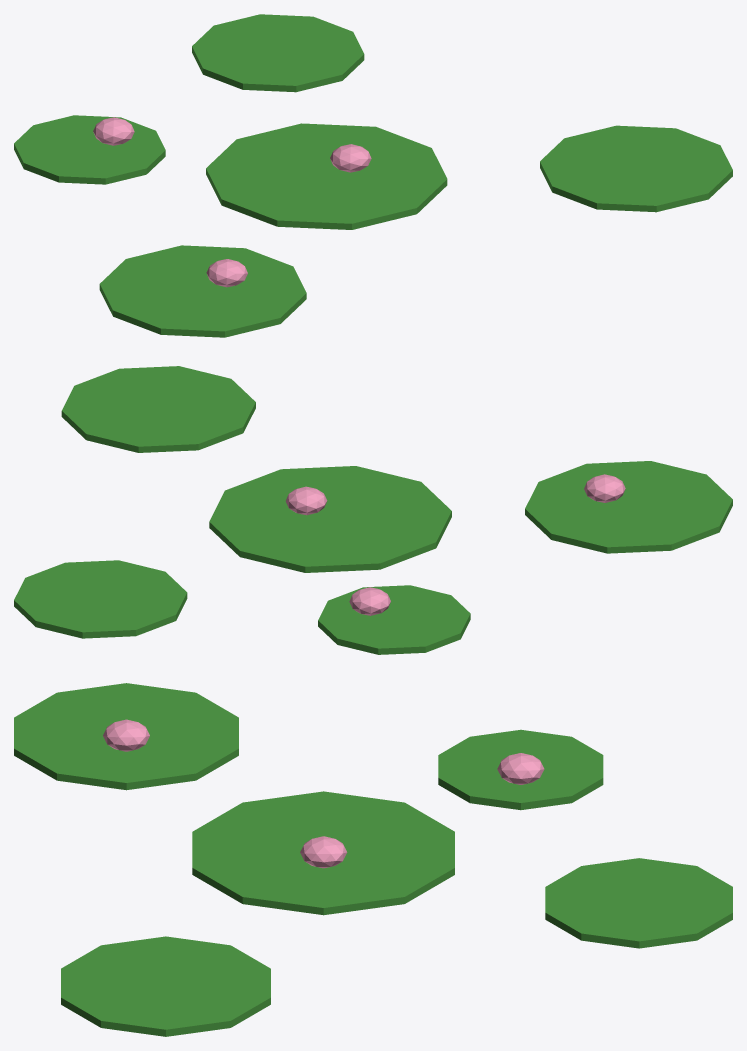
Rendered from lily_pads.glb.
3 renders of one model, top to bottom at view 1: azimuth 30°, elevation 25°; view 2: azimuth 150°, elevation 25°; view 3: azimuth 270°, elevation 25°, orthographic. The views are drawn at different scales.
Visible parts, largest first — view 1: lily_pads; view 2: lily_pads; view 3: lily_pads.
Boxes of the visible parts, box(x1,y1,x2,y2) form: lily_pads: box(14, 14, 732, 337); lily_pads: box(14, 366, 732, 654); lily_pads: box(14, 683, 732, 1036).
Bounding box in the file's own units: 2.08 × 0.086 × 1.82.
